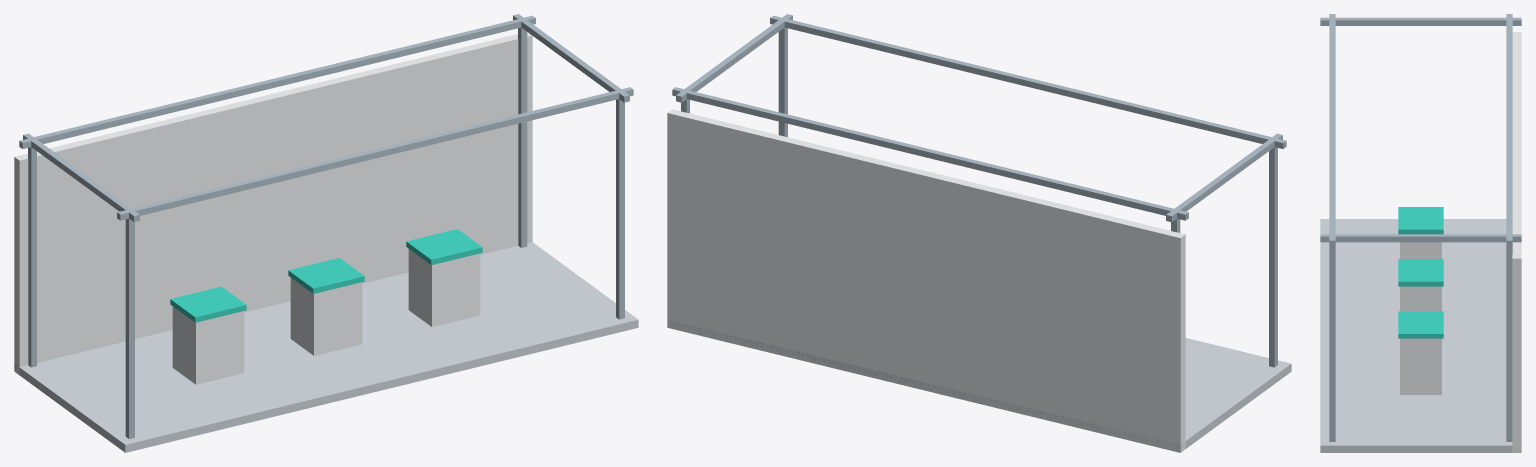
The picture shows the model from 3 angles, left to right: view 1: azimuth 30°, elevation 25°; view 2: azimuth 150°, elevation 25°; view 3: azimuth 270°, elevation 25°; orthographic projection. The views are drawn at different scales.
Parts seen in each view (by area): view 1: Exhibition Booth Concept; view 2: Exhibition Booth Concept; view 3: Exhibition Booth Concept.
Boxes of the visible parts, box(x1,y1,x2,y2) form: Exhibition Booth Concept: box(14, 14, 638, 452); Exhibition Booth Concept: box(667, 14, 1291, 452); Exhibition Booth Concept: box(1320, 14, 1521, 452).
Bounding box in the file's own units: 8 × 3.49 × 3.
